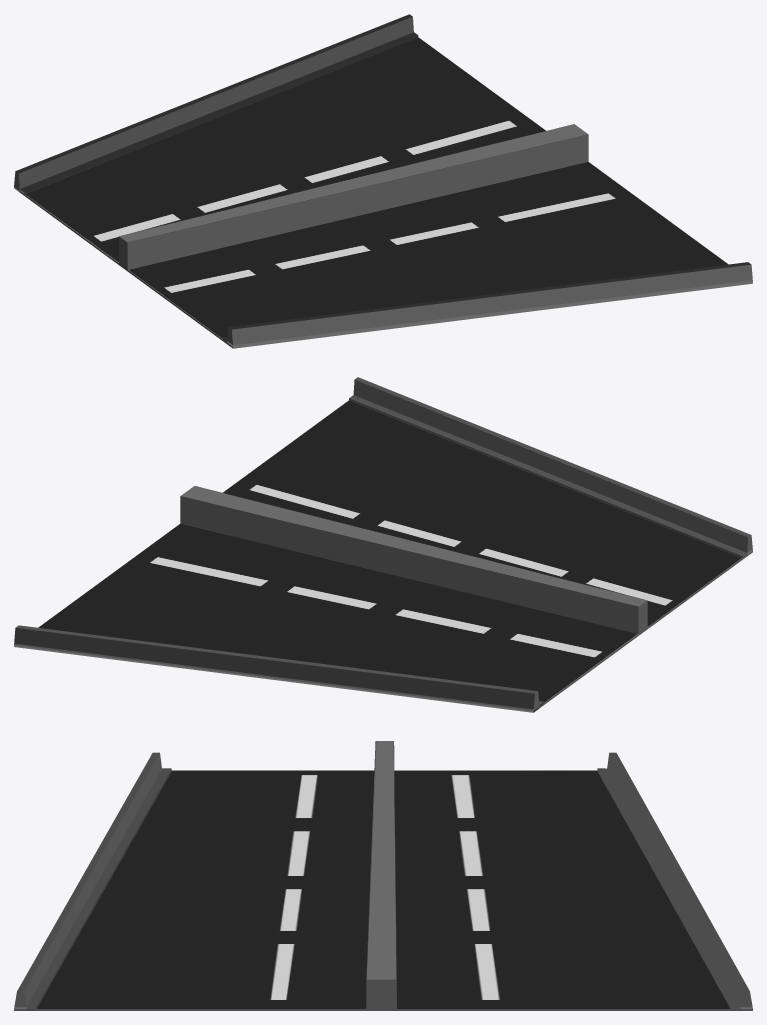
The model's file is roadtoround.FBX.
The picture shows the model from 3 angles, top to bottom: view 1: azimuth 30°, elevation 25°; view 2: azimuth 150°, elevation 25°; view 3: azimuth 270°, elevation 25°; orthographic projection. The views are drawn at different scales.
Parts seen in each view (by area): view 1: Box001; view 2: Box001; view 3: Box001.
Boxes of the visible parts, x1,y1,x2,y2 form: Box001: [14, 14, 752, 348]; Box001: [14, 377, 752, 712]; Box001: [14, 741, 752, 1010].
Size of the model in its own units: 873 by 53 by 1142.
